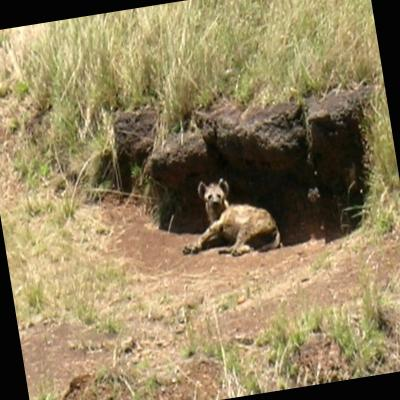hyenas: (182, 157, 297, 274)
